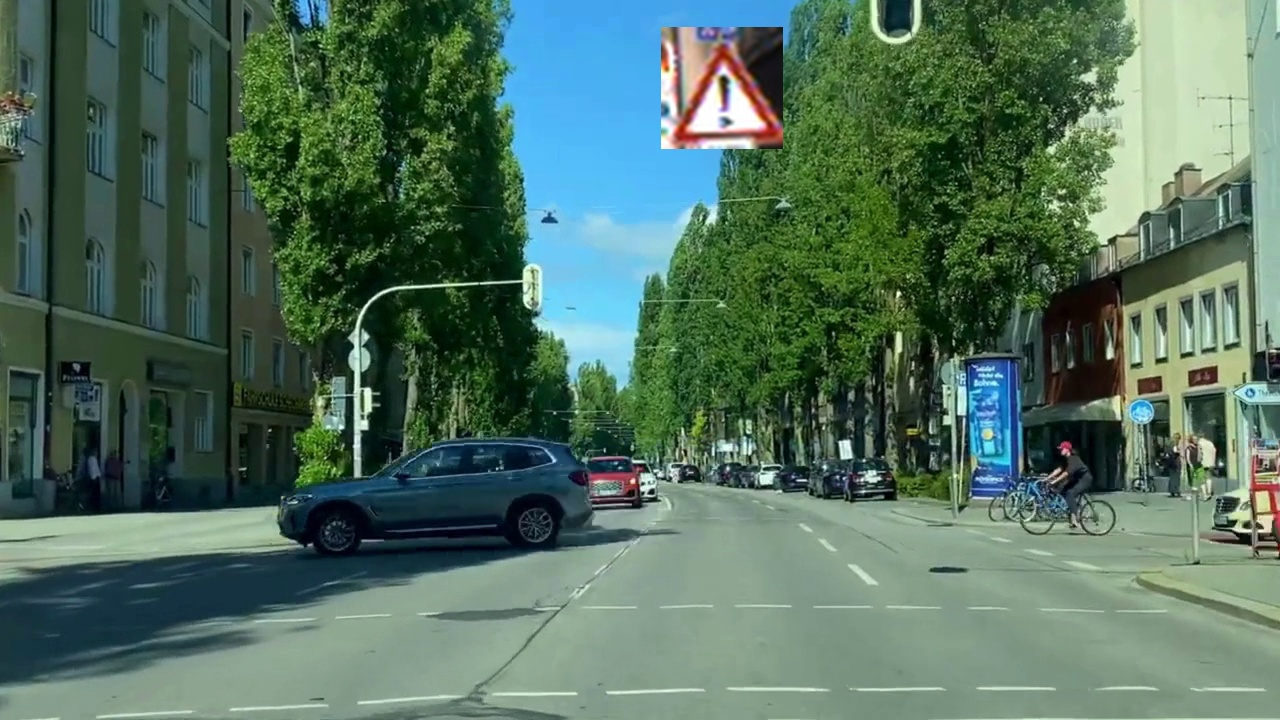Caution: (661, 27, 783, 149)
